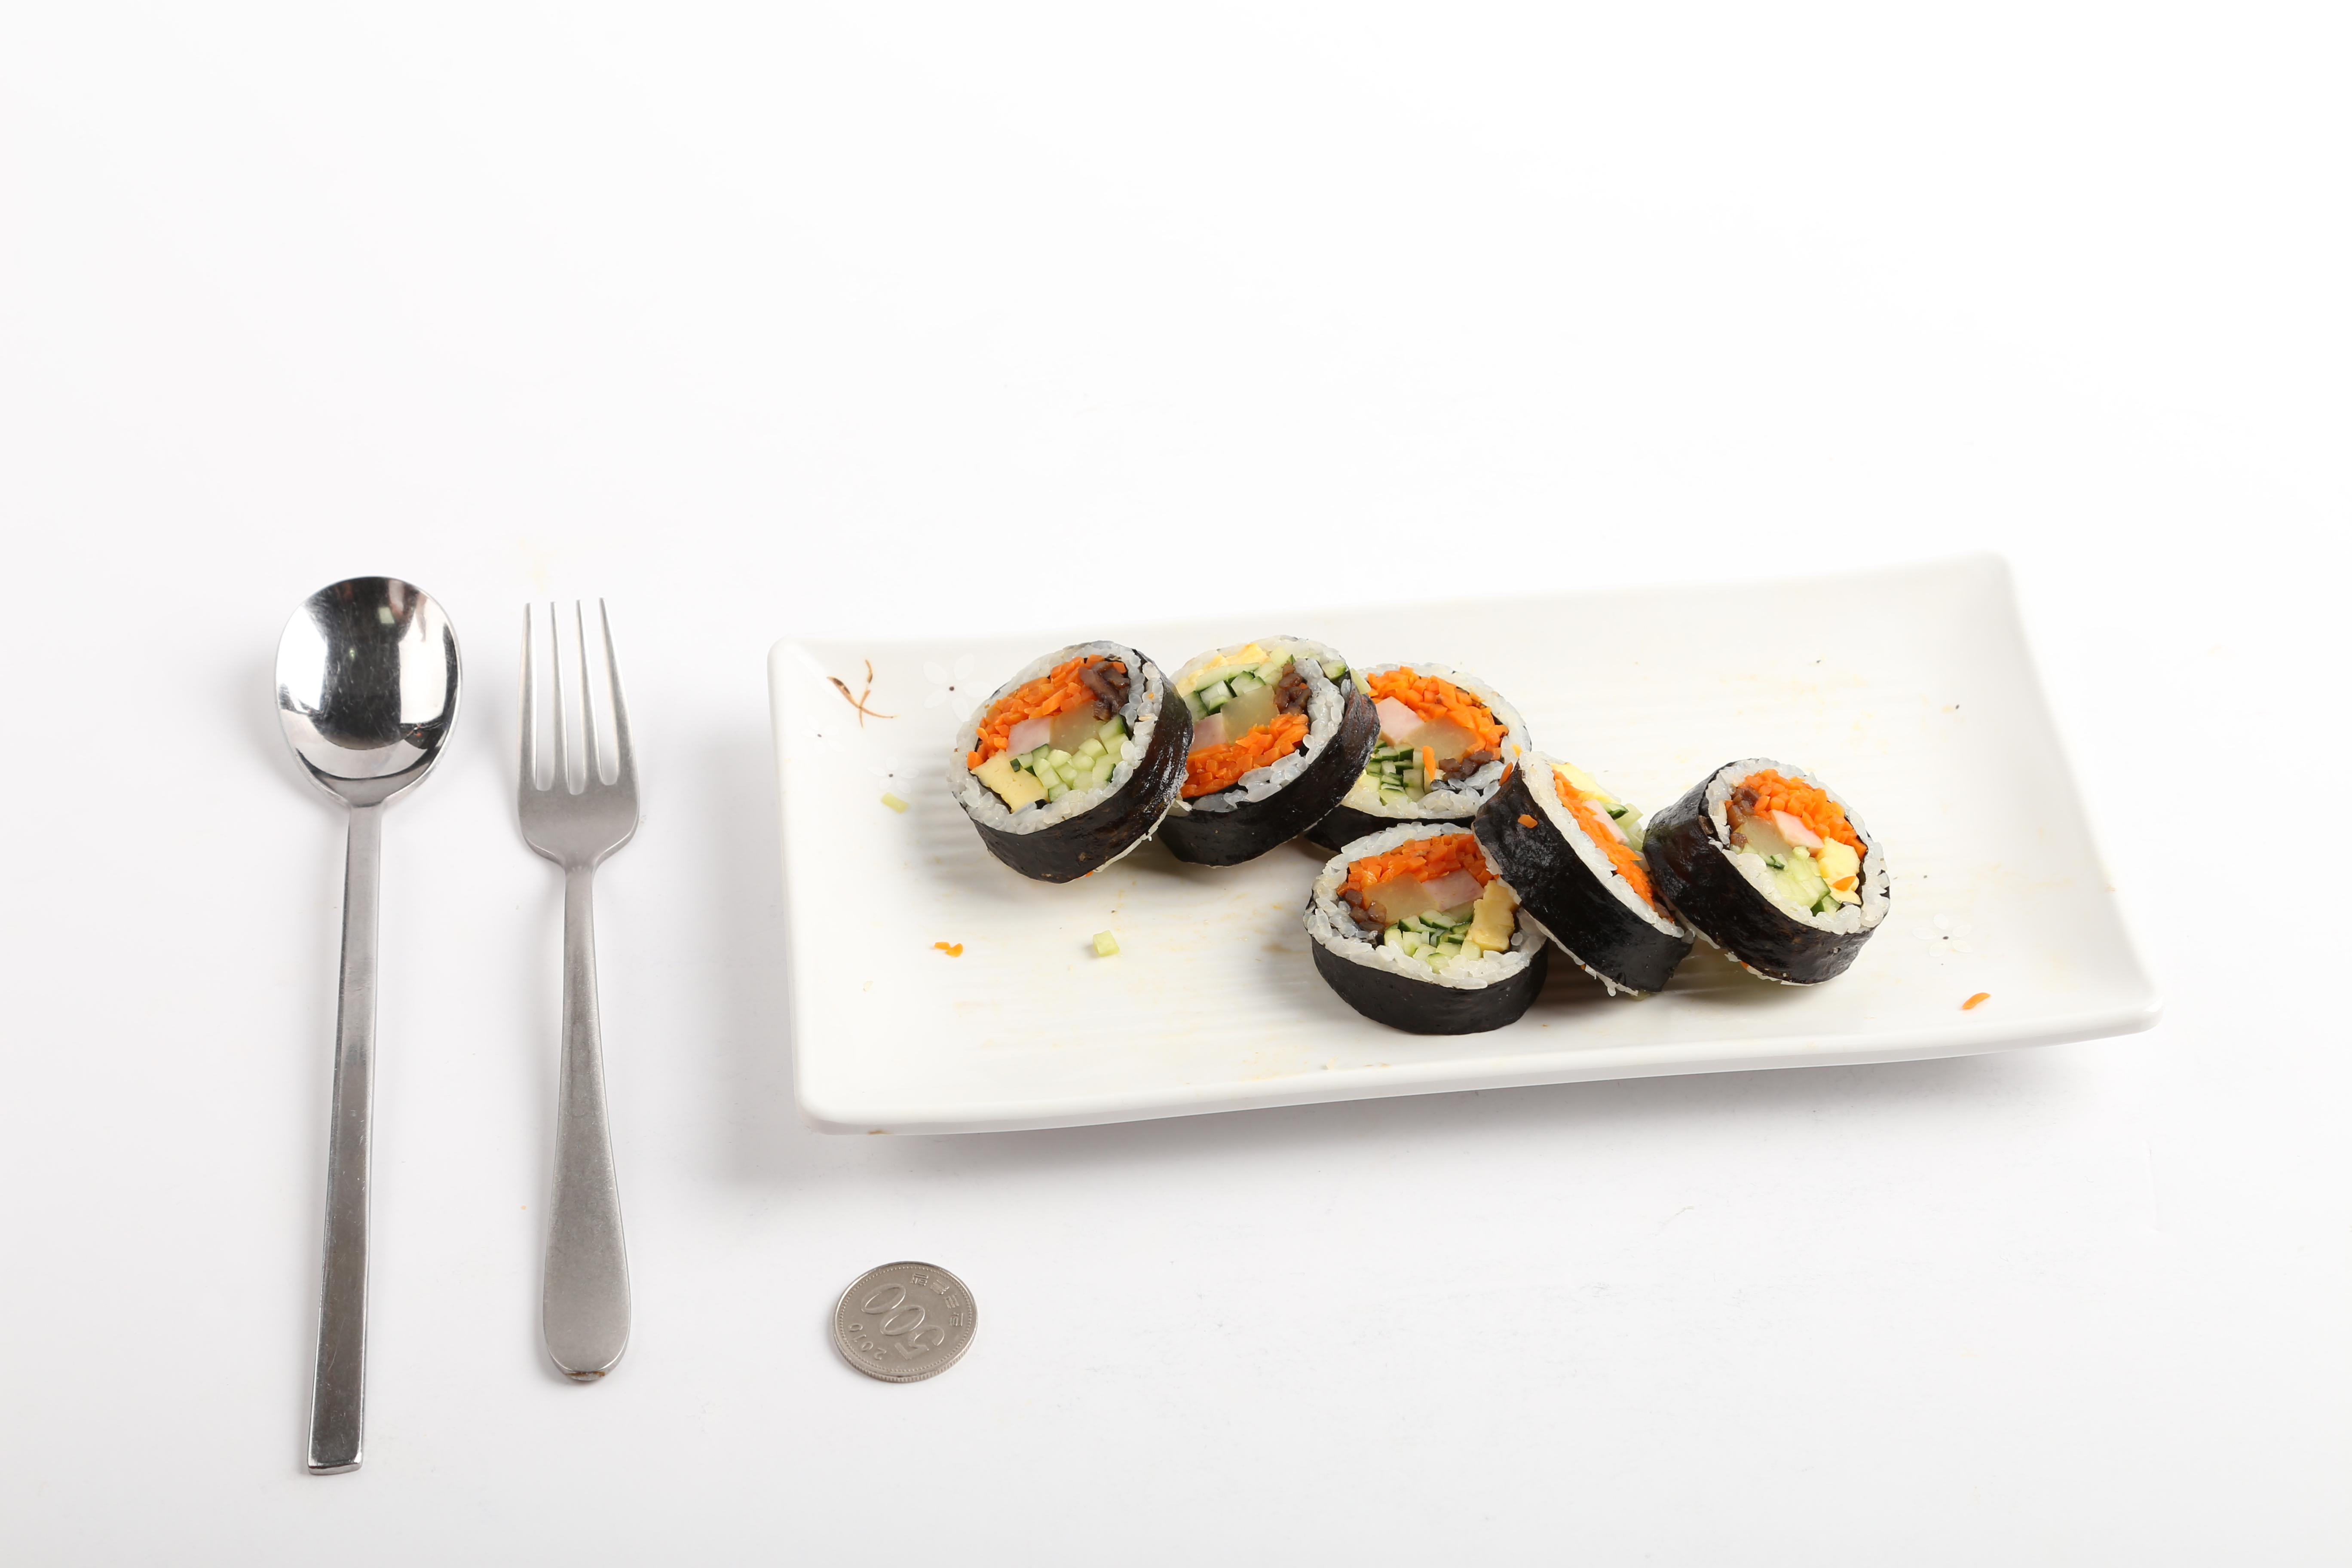dish: (768, 542, 2163, 1139)
ref_coin: (819, 1249, 989, 1384)
ref_fork: (513, 593, 642, 919)
ref_spoon: (271, 569, 465, 838)
김밥: (941, 632, 1892, 1045)
